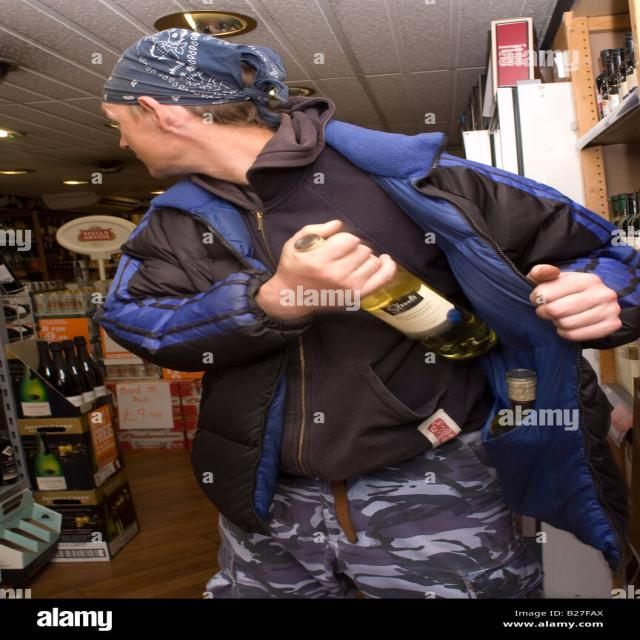Shoplifting: (34, 81, 640, 457)
